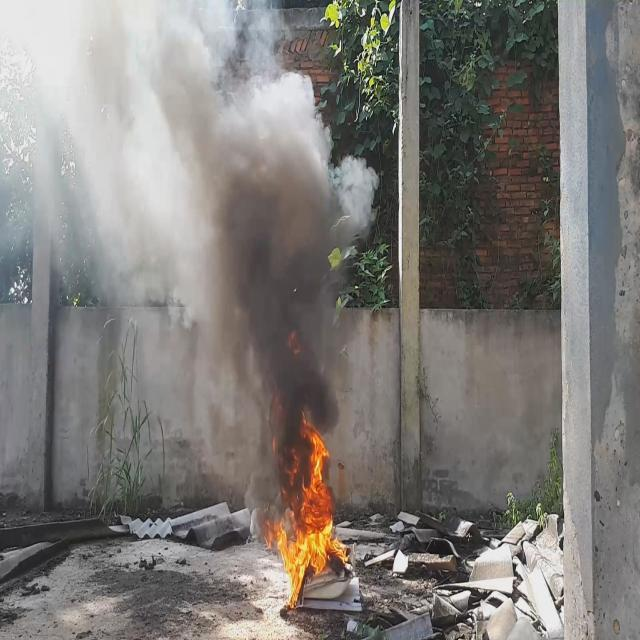Fire: (270, 412, 348, 612)
Smoke: (0, 0, 378, 527)
